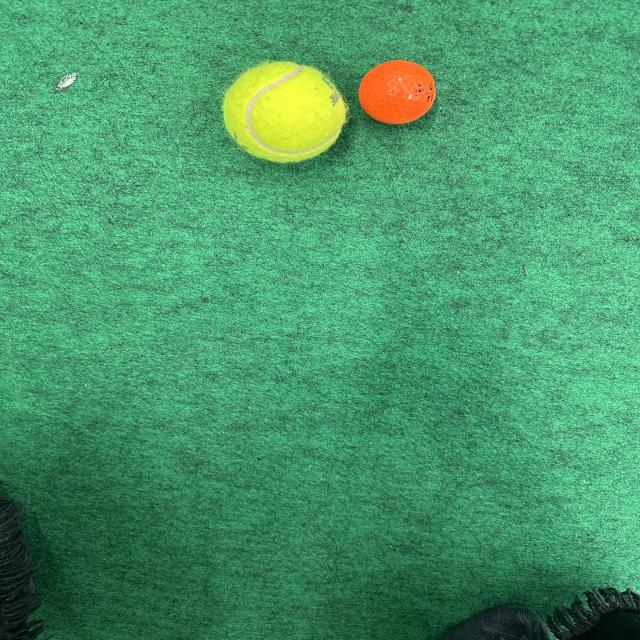ball: (356, 59, 438, 127)
